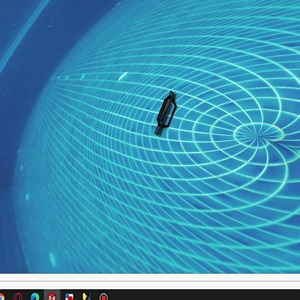submarine: (155, 93, 184, 131)
